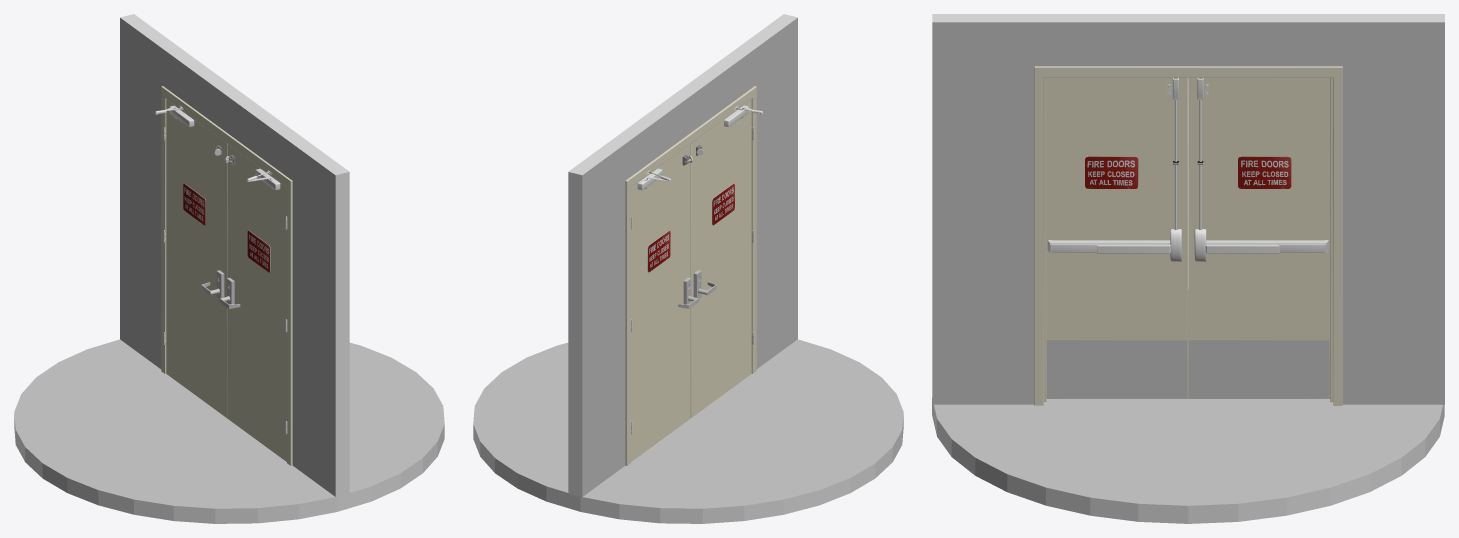
Rendered from doors.fbx.
3 renders of one model, left to right at view 1: azimuth 30°, elevation 25°; view 2: azimuth 150°, elevation 25°; view 3: azimuth 270°, elevation 25°, orthographic. The views are drawn at different scales.
Visible parts, largest first — view 1: Cube.003, Plane.002, Cube.001; view 2: Cube.003, Plane.002, Cube.001; view 3: Cube.003, Cube.001, Plane.002.
Part boxes in pixels (bbox=[...]): Cube.003: bbox=[14, 14, 444, 523]; Plane.002: bbox=[183, 183, 270, 272]; Cube.001: bbox=[155, 105, 280, 190]; Cube.003: bbox=[473, 14, 903, 523]; Plane.002: bbox=[647, 183, 734, 272]; Cube.001: bbox=[637, 105, 763, 190]; Cube.003: bbox=[932, 14, 1444, 523]; Cube.001: bbox=[1047, 77, 1328, 261]; Plane.002: bbox=[1085, 156, 1291, 188].
Bounding box in the file's own units: 324 × 279 × 324.
